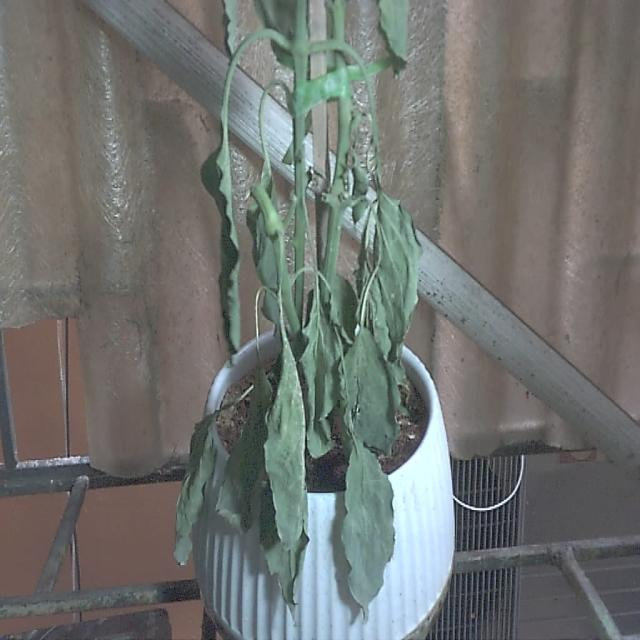Leaf: (338, 444, 395, 616), (198, 148, 242, 366), (262, 347, 308, 548), (173, 413, 214, 572)
